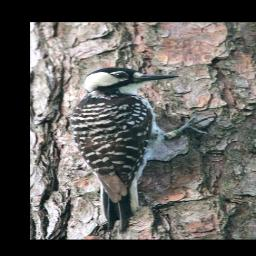Woodpecker: (63, 66, 223, 233)
